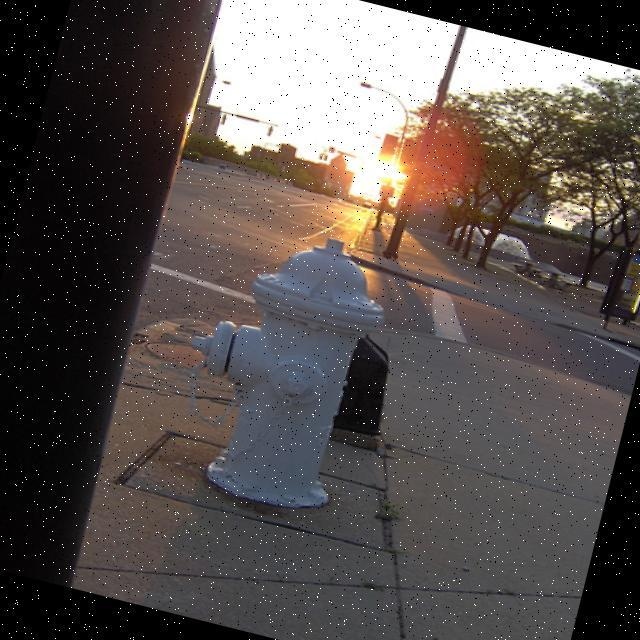fire_hydrant: (160, 214, 400, 523)
